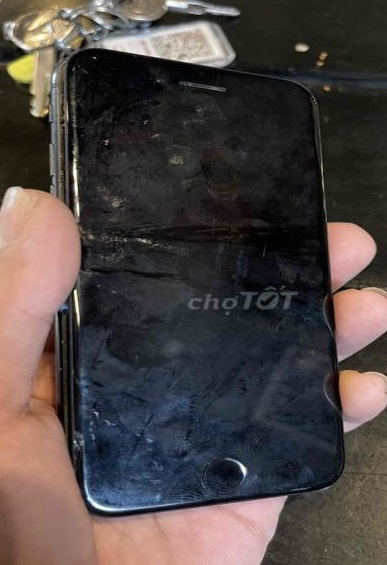physical_damage: (44, 61, 91, 202), (64, 410, 153, 471)
scratch: (66, 215, 183, 278), (133, 126, 190, 173), (170, 91, 233, 127), (216, 137, 259, 170)
